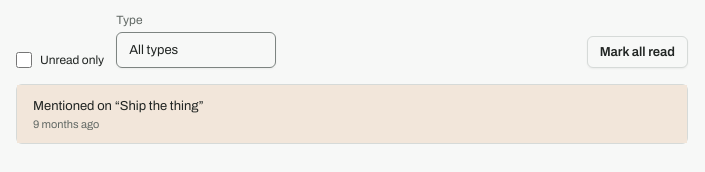
NotificationsList click-through › stops offering mark-all-read once the last unread row has been read
The width and height of the screenshot is (705, 172).
Expected: the button "Mark all read" is enabled, [587, 36, 688, 68]
Click the text "Mentioned on “Ship the thing”": [118, 106] box [33, 97, 204, 115]
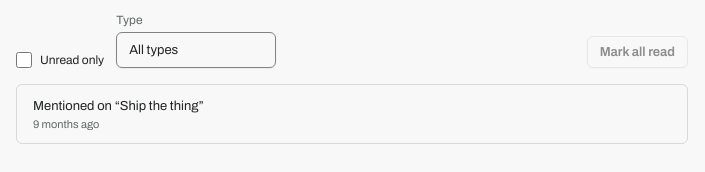
Now the button "Mark all read" is disabled, box [587, 36, 688, 68]
